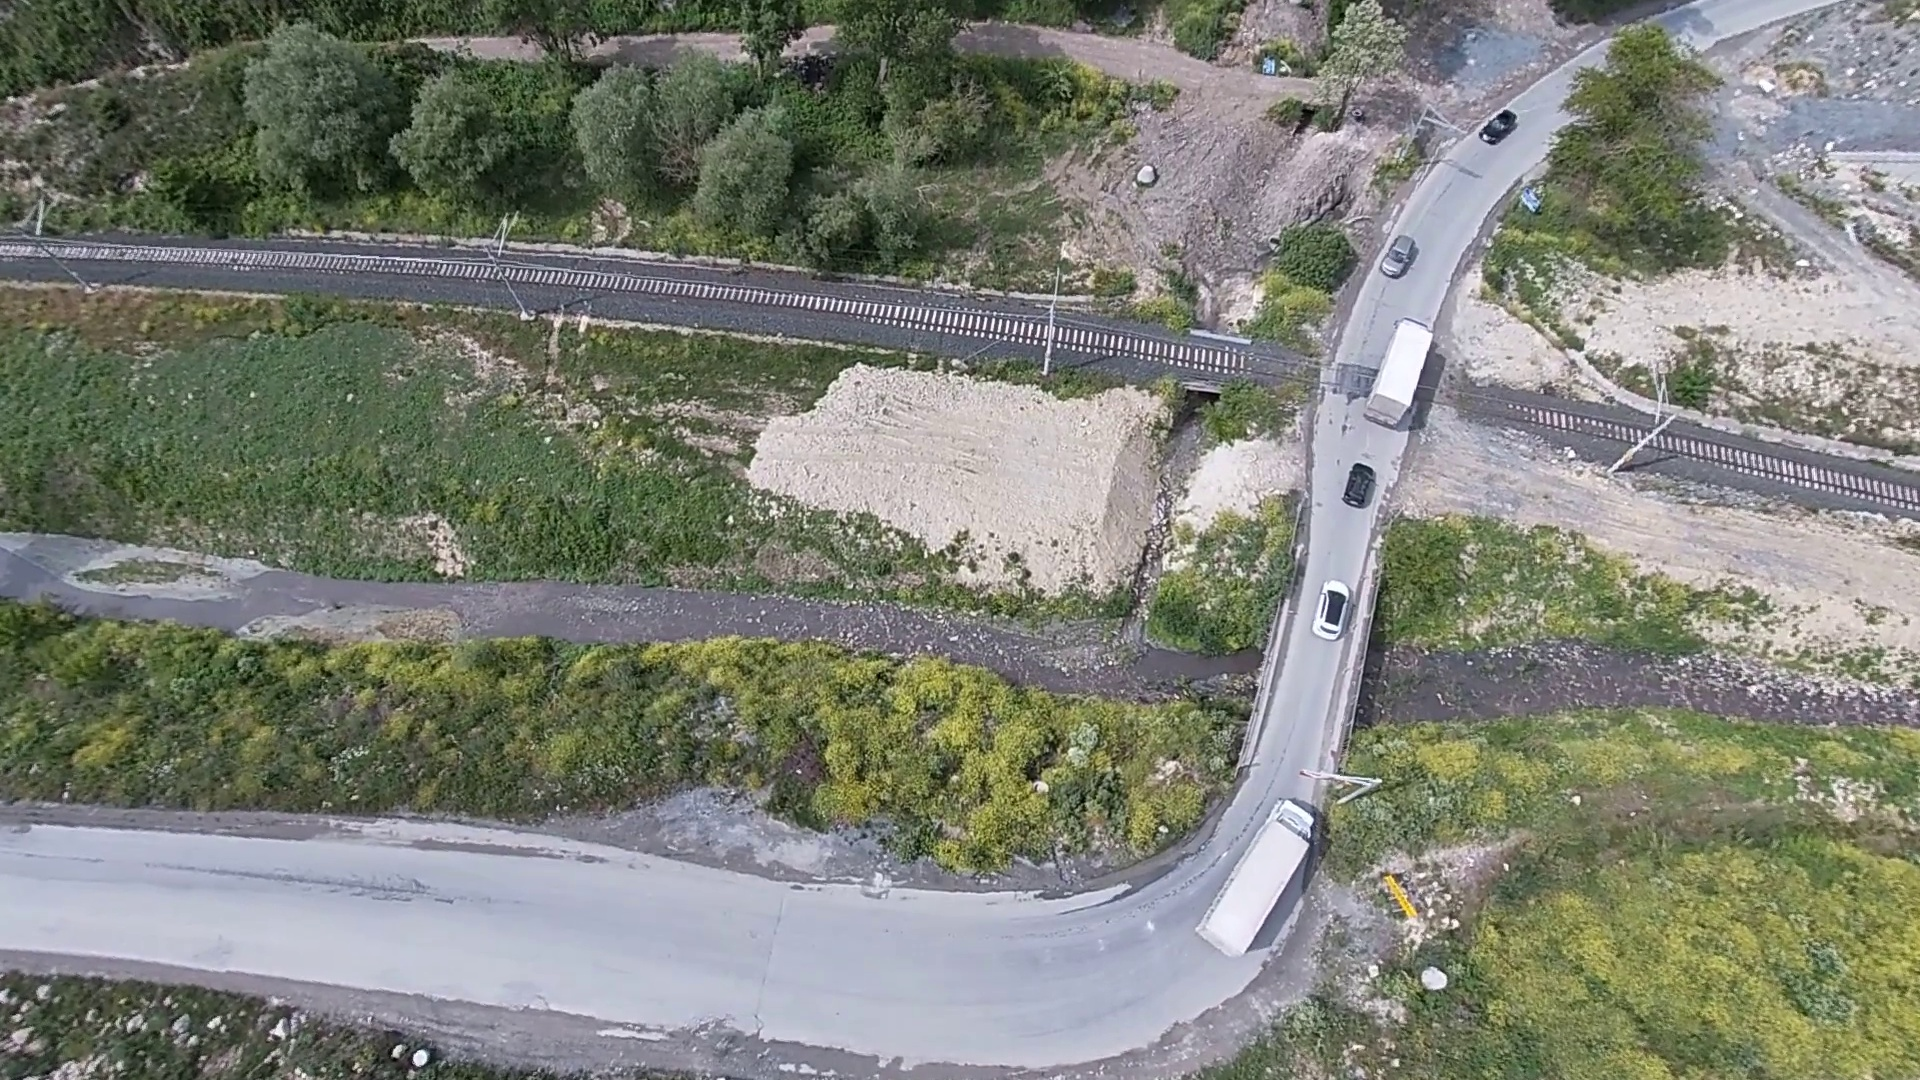araba: (1335, 462, 1394, 513), (1375, 231, 1420, 282), (1317, 576, 1346, 647), (1472, 102, 1519, 145)
kamyon: (1196, 794, 1327, 965), (1354, 314, 1447, 426)
